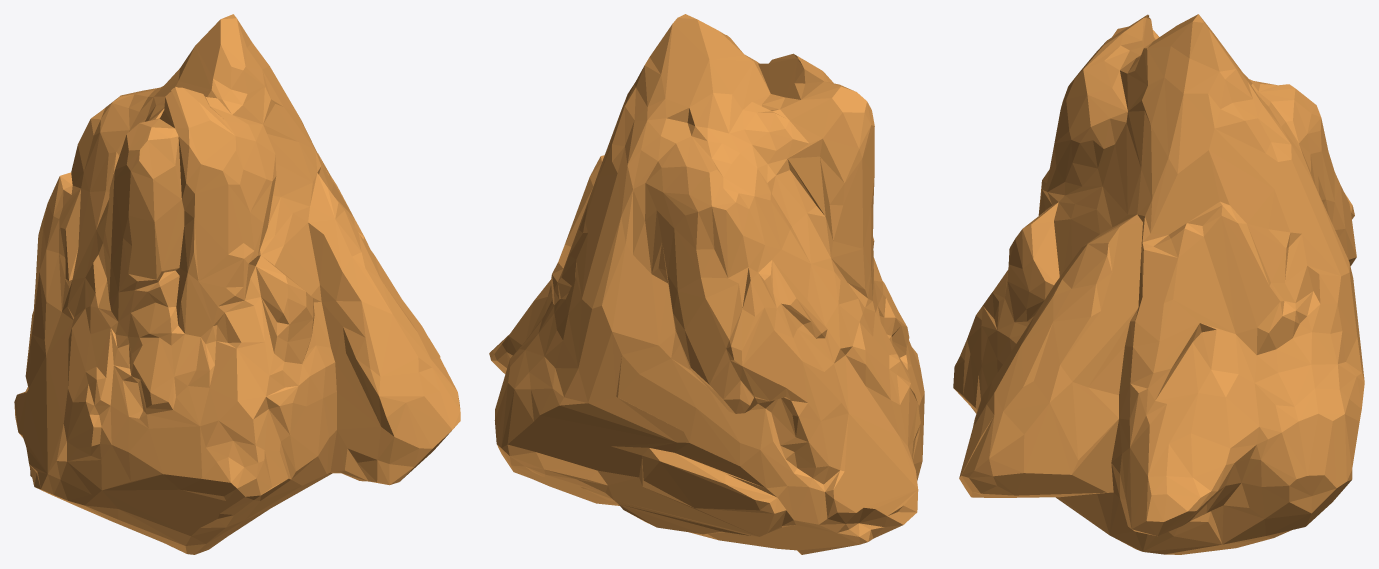
File: meowverse_cliff.glb
3 views of the same model, side by side, from view 1: azimuth 30°, elevation 25°; view 2: azimuth 150°, elevation 25°; view 3: azimuth 270°, elevation 25° (orthographic). The views are drawn at different scales.
Parts seen in each view (by area): view 1: rock_low; view 2: rock_low; view 3: rock_low.
Part boxes in pixels (x1,y1,x2,y2): rock_low: [14, 14, 460, 554]; rock_low: [489, 14, 924, 554]; rock_low: [953, 14, 1364, 554].
Size of the model in its own units: 1.27 by 1.51 by 1.06.
